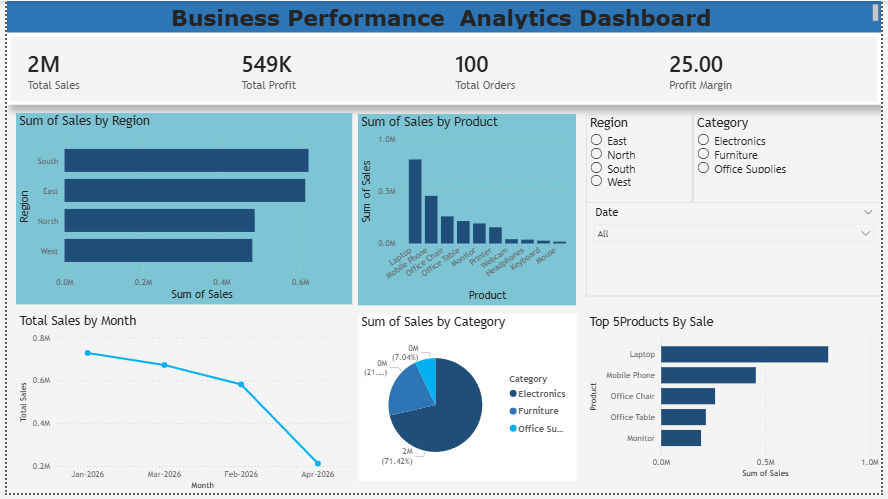

The page's visual inventory and layout, read from the dashboard file:
{"tool":"powerbi","page":{"name":"Page 1","canvas":[1280,720],"ordinal":0},"visuals":[{"type":"cardVisual","fields":{"Data":["Sheet1.Total SAles","Sheet1.Total Profit","Sheet1.Total Orders","Sheet1.Profit Margin"]},"box":[0,46.7,1280,105],"z":0},{"type":"clusteredBarChart","fields":{"Category":["Sheet1.Region"],"Y":["Sum(Sheet1.Sales)"]},"box":[13.3,163.3,491.7,280],"z":1000},{"type":"pieChart","fields":{"Category":["Sheet1.Category "],"Y":["Sum(Sheet1.Sales)"]},"box":[513.7,458,320.5,244.4],"z":2000},{"type":"clusteredColumnChart","fields":{"Category":["Sheet1.Product"],"Y":["Sum(Sheet1.Sales)"]},"box":[513.7,165.4,319,279.5],"z":3000},{"type":"textbox","box":[0,0,1280,46.1],"z":4000},{"type":"listSlicer","fields":{"Values":["Sheet1.Region"]},"box":[848,166,156,198],"z":5000},{"type":"listSlicer","fields":{"Values":["Sheet1.Category "]},"box":[1004,166,276,196],"z":6000},{"type":"lineChart","fields":{"Category":["Sheet1.Month"],"Y":["Sheet1.Total Sales"]},"box":[13.2,456.6,491.7,263.4],"z":7000},{"type":"slicer","fields":{"Values":["Sheet1.Date"]},"box":[847.3,294.1,433.2,137.6],"z":8000},{"type":"barChart","title":"Top 5Products By Sale","fields":{"Y":["Sum(Sheet1.Sales)"],"Category":["Sheet1.Product"]},"box":[847.3,458,433.2,244.4],"z":9000}]}

Visuals, with their boxes in screenshot pixels (x1, y1, x2, y2), scaled from the page's 1280x720 canvas onto the 888x499 screenshot:
cardVisual - Sheet1.Total SAles x Sheet1.Total Profit: <region>0, 32, 887, 105</region>
clusteredBarChart - Sheet1.Region x Sum(Sheet1.Sales): <region>9, 113, 350, 307</region>
pieChart - Sheet1.Category  x Sum(Sheet1.Sales): <region>356, 317, 579, 487</region>
clusteredColumnChart - Sheet1.Product x Sum(Sheet1.Sales): <region>356, 115, 578, 308</region>
textbox: <region>0, 0, 887, 32</region>
listSlicer - Sheet1.Region: <region>588, 115, 697, 252</region>
listSlicer - Sheet1.Category : <region>697, 115, 887, 251</region>
lineChart - Sheet1.Month x Sheet1.Total Sales: <region>9, 316, 350, 498</region>
slicer - Sheet1.Date: <region>588, 204, 887, 299</region>
"Top 5Products By Sale" barChart: <region>588, 317, 887, 487</region>
